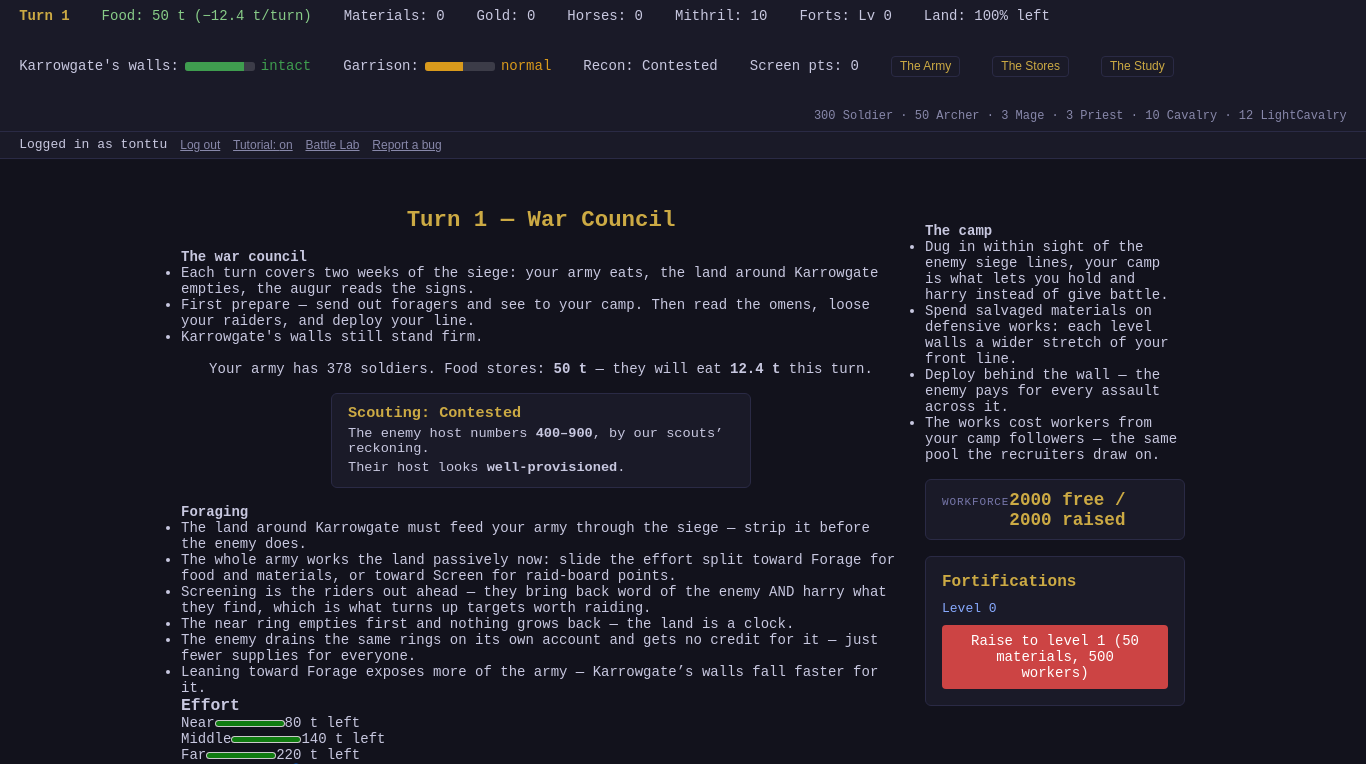
character panel › marks a character who is away, in the server’s words
Expected: the heading "Turn 1 — War Council" is shown, [407,207,675,233]
Click the button with test id "hud-army" at (926, 66), box [891,56,960,77]
(page scrolled)
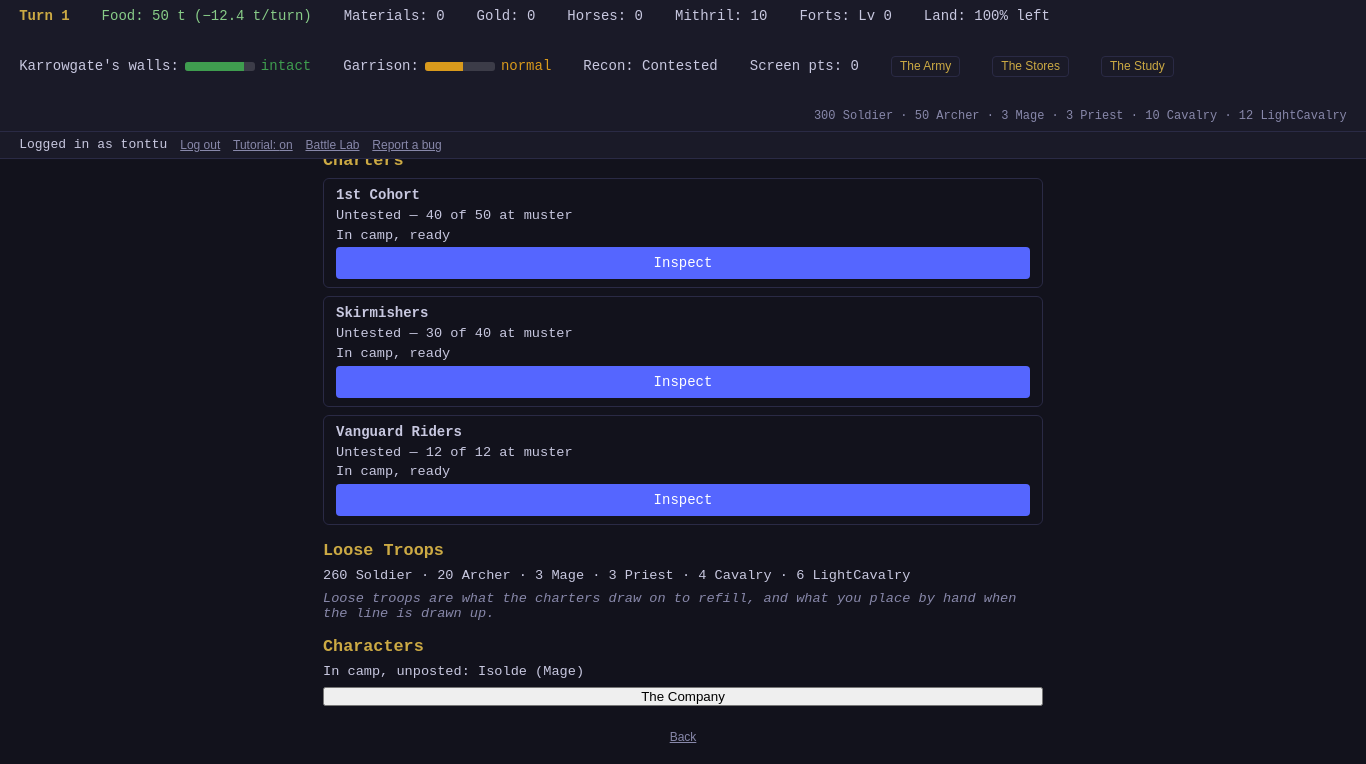
Now the element with test id "squad-roll" is shown, box [323,159,1043,706]
Click the button with test id "roll-to-company" at (683, 697), box [323,687,1043,706]
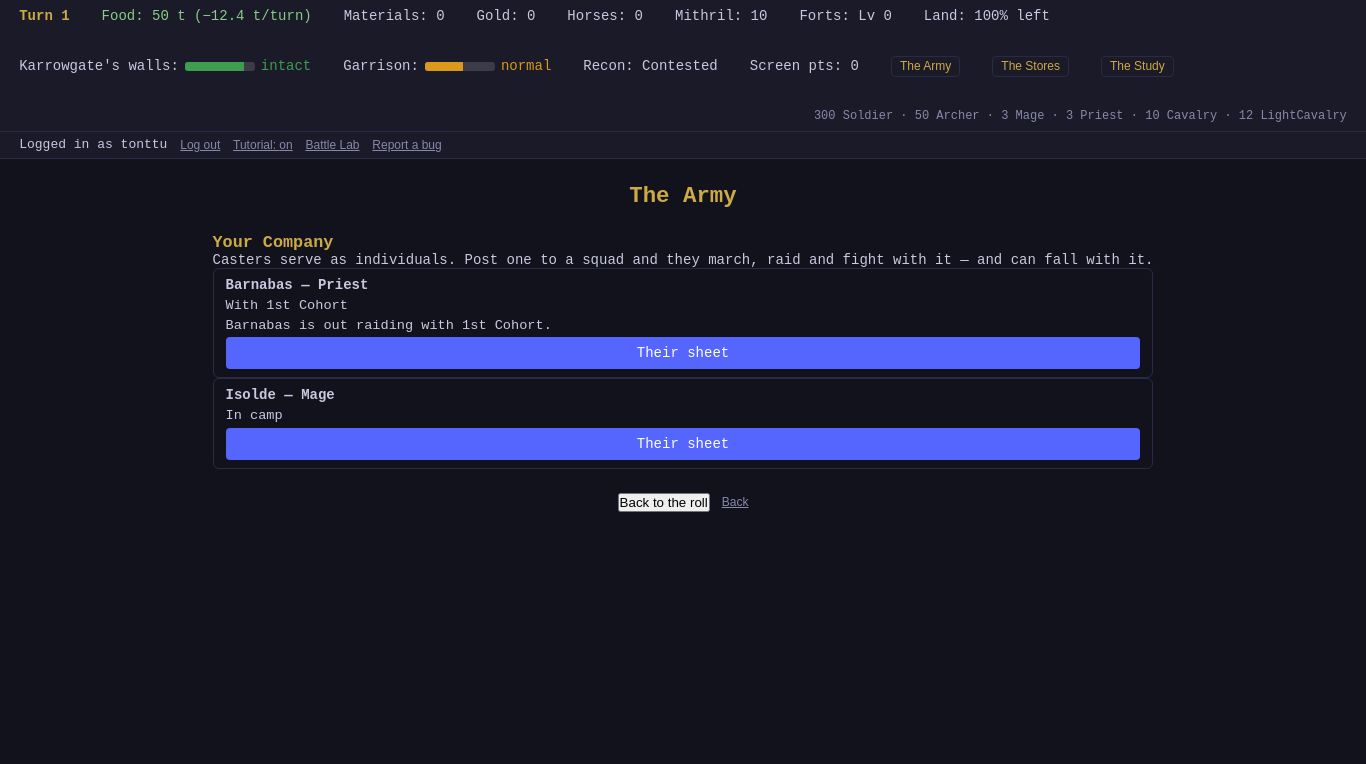
Now the element with test id "character-panel" is shown, box [212,225,1154,469]
Now the text with test id "character-away-2" shows "out raiding", box [226,318,544,333]
